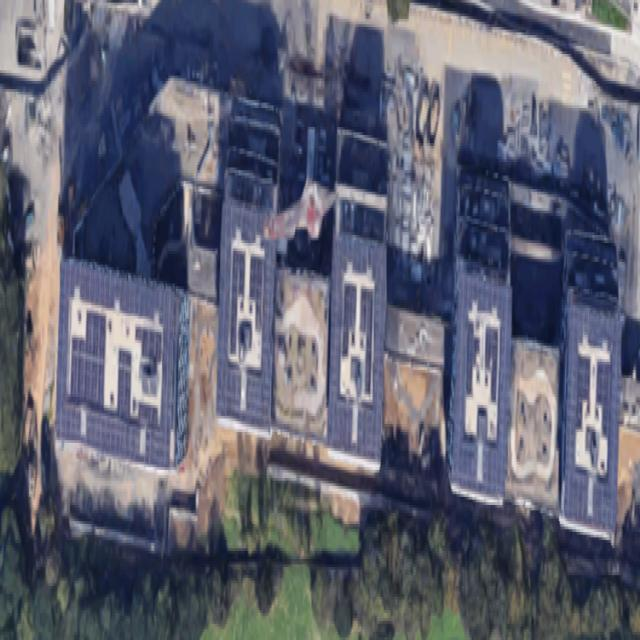immeuble: (52, 263, 193, 472), (444, 165, 517, 506), (212, 98, 282, 432), (554, 230, 626, 539), (327, 129, 391, 465)
